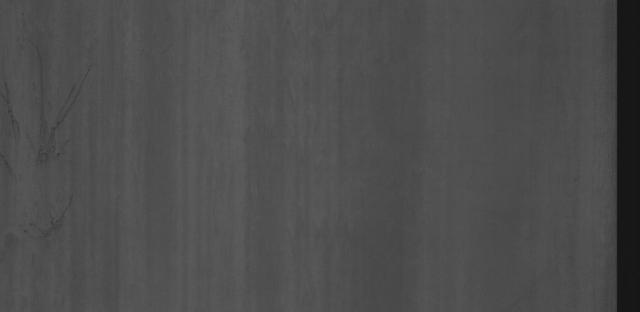water_spot: (0, 47, 89, 245)
